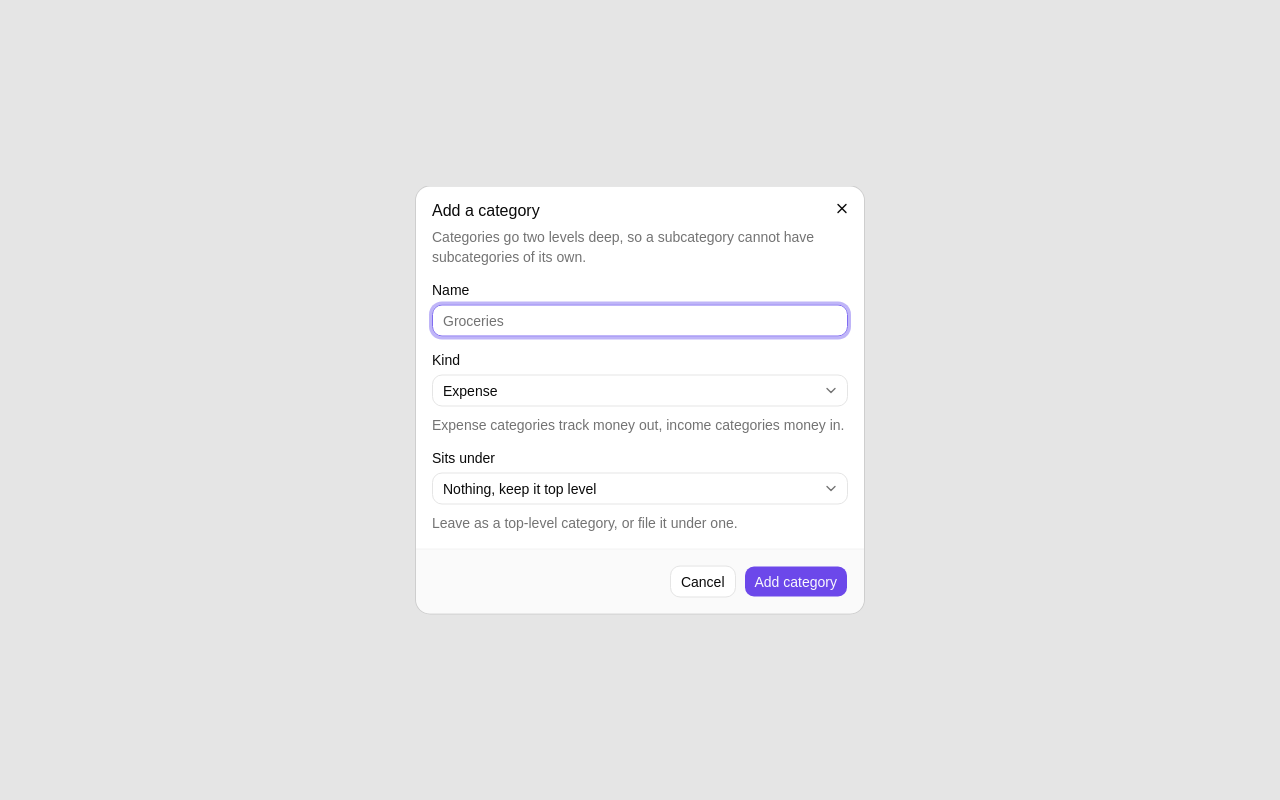
Test: the kind picker › only offers parents of the chosen kind
The image size is (1280, 800).
Click the dropdown named "Sits under": click(520, 488) [432,472,848,504]
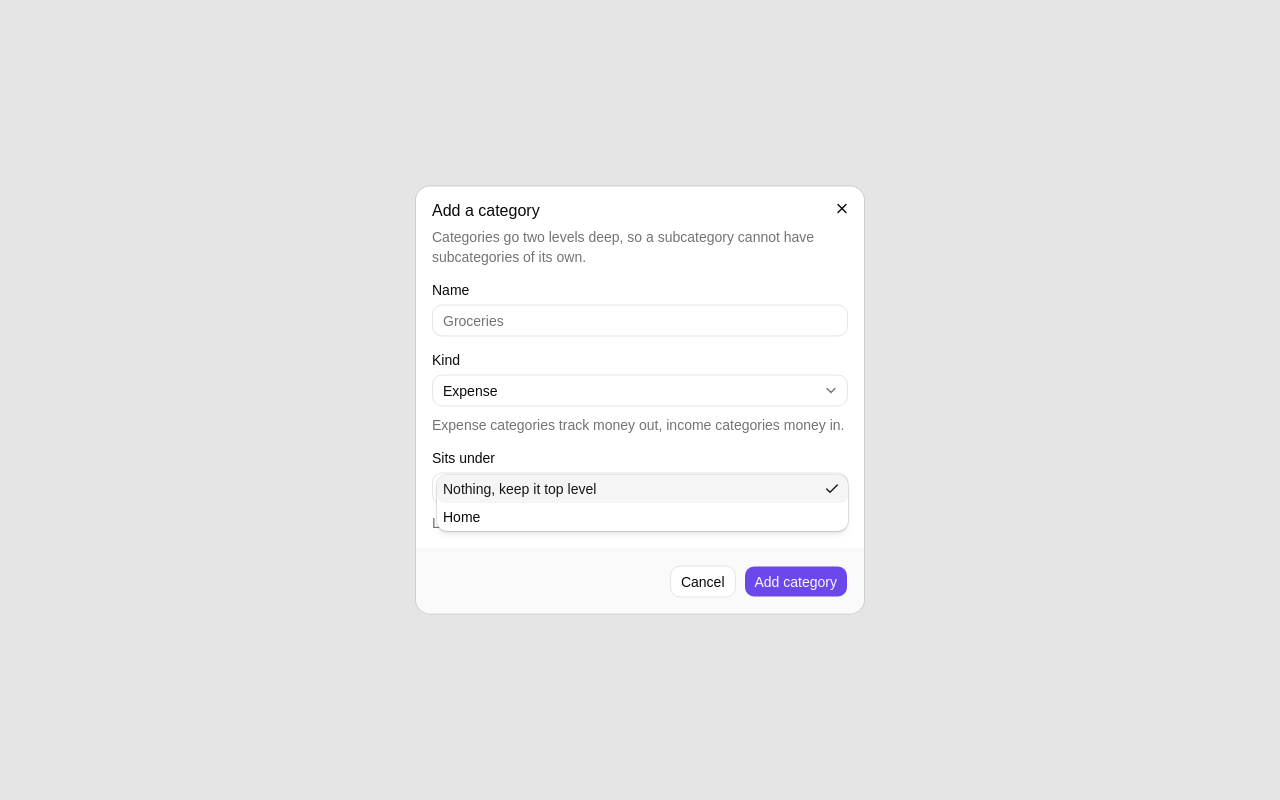
Expected: the option "Salary" is not shown
Expected: the option "Home" is shown, [443,508,480,524]
Press Escape
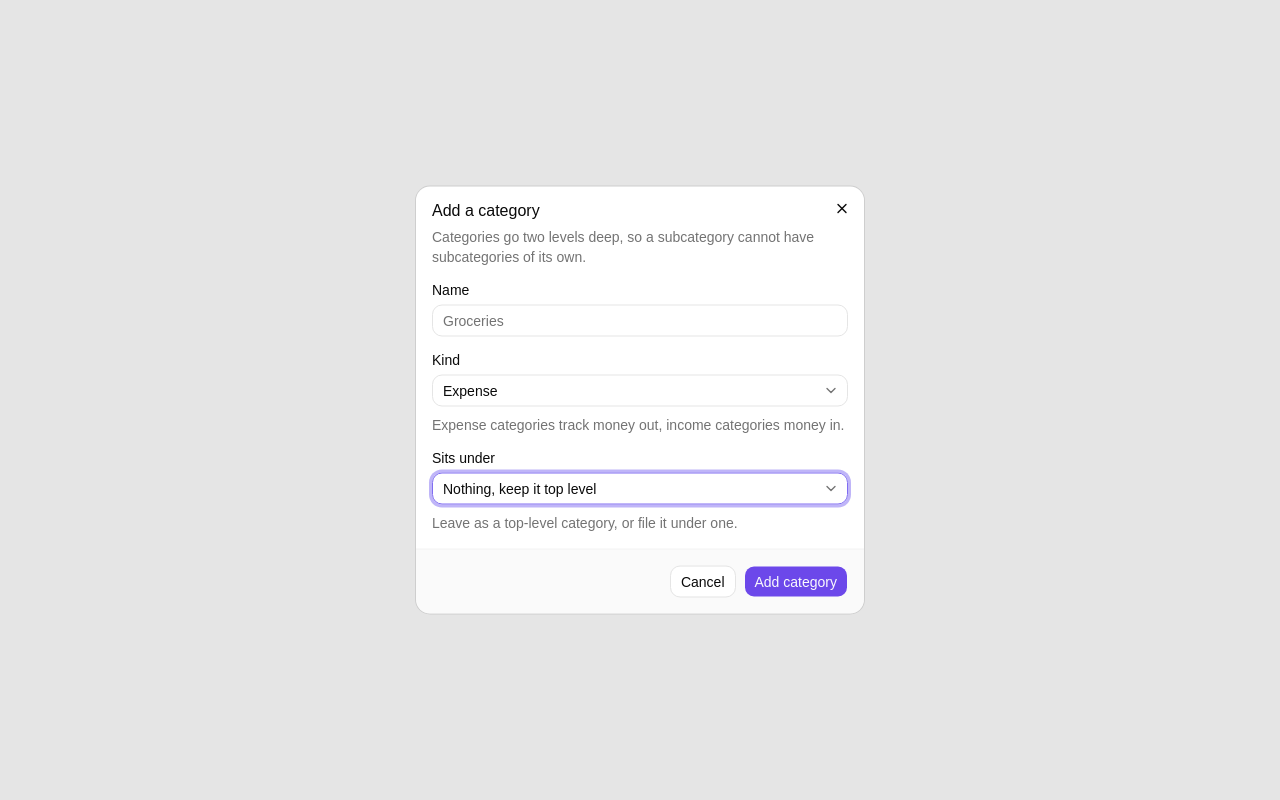
Click the dropdown named "Kind": click(470, 390) [432,374,848,406]
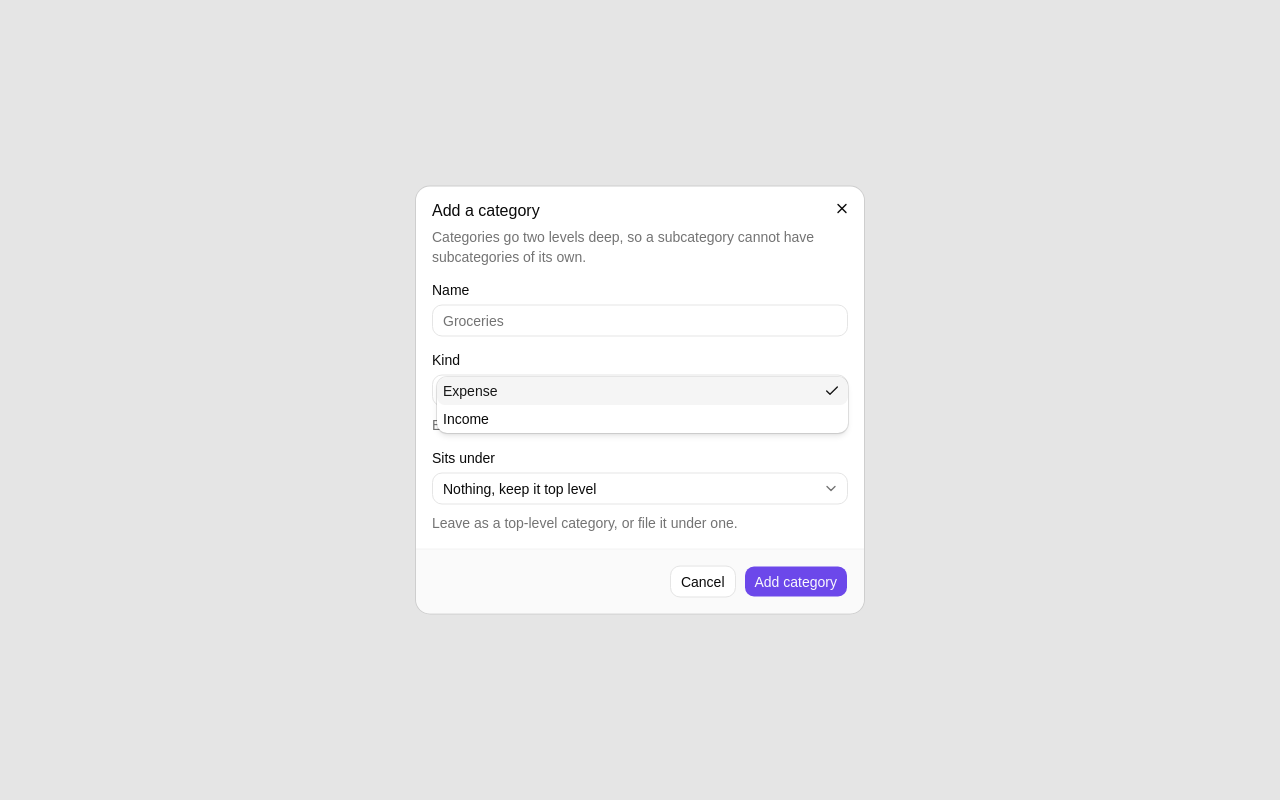
Click the option "Income": click(466, 418) [443,410,489,426]
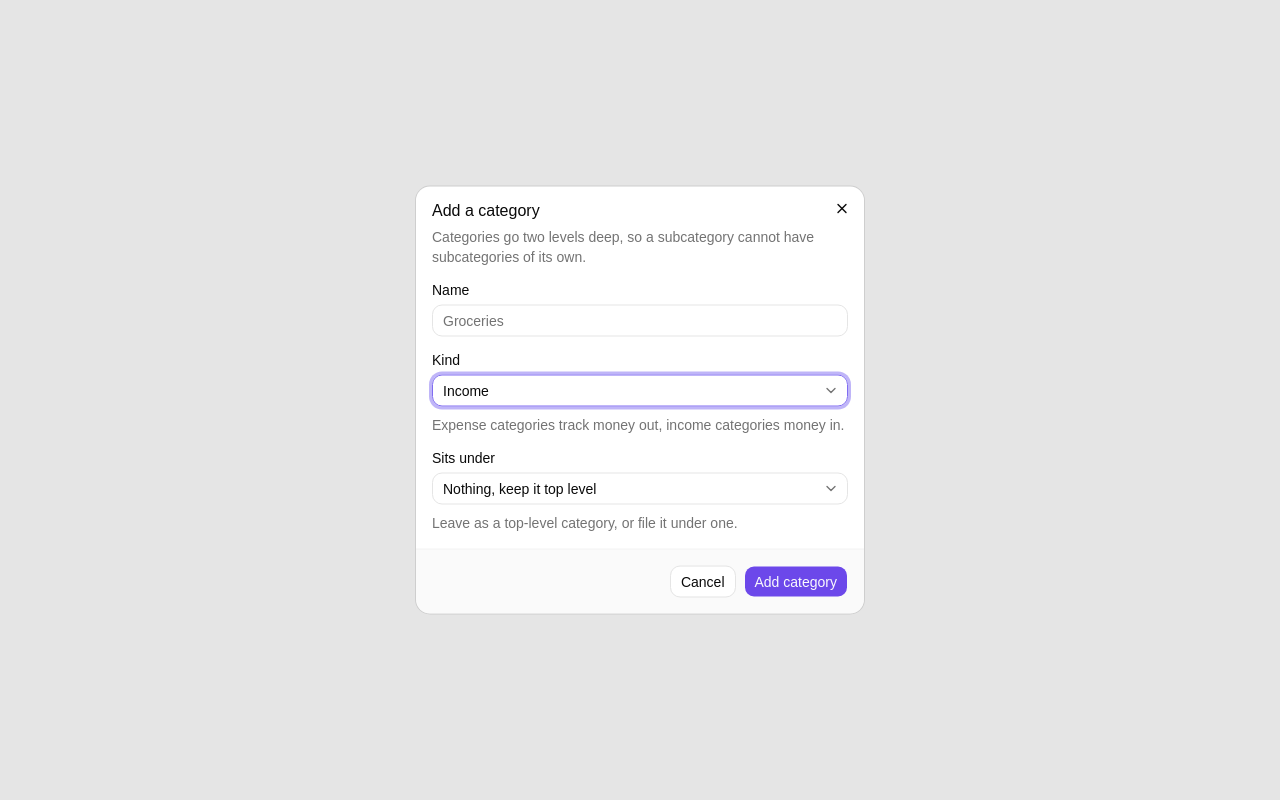
Click the dropdown named "Sits under": click(520, 488) [432,472,848,504]
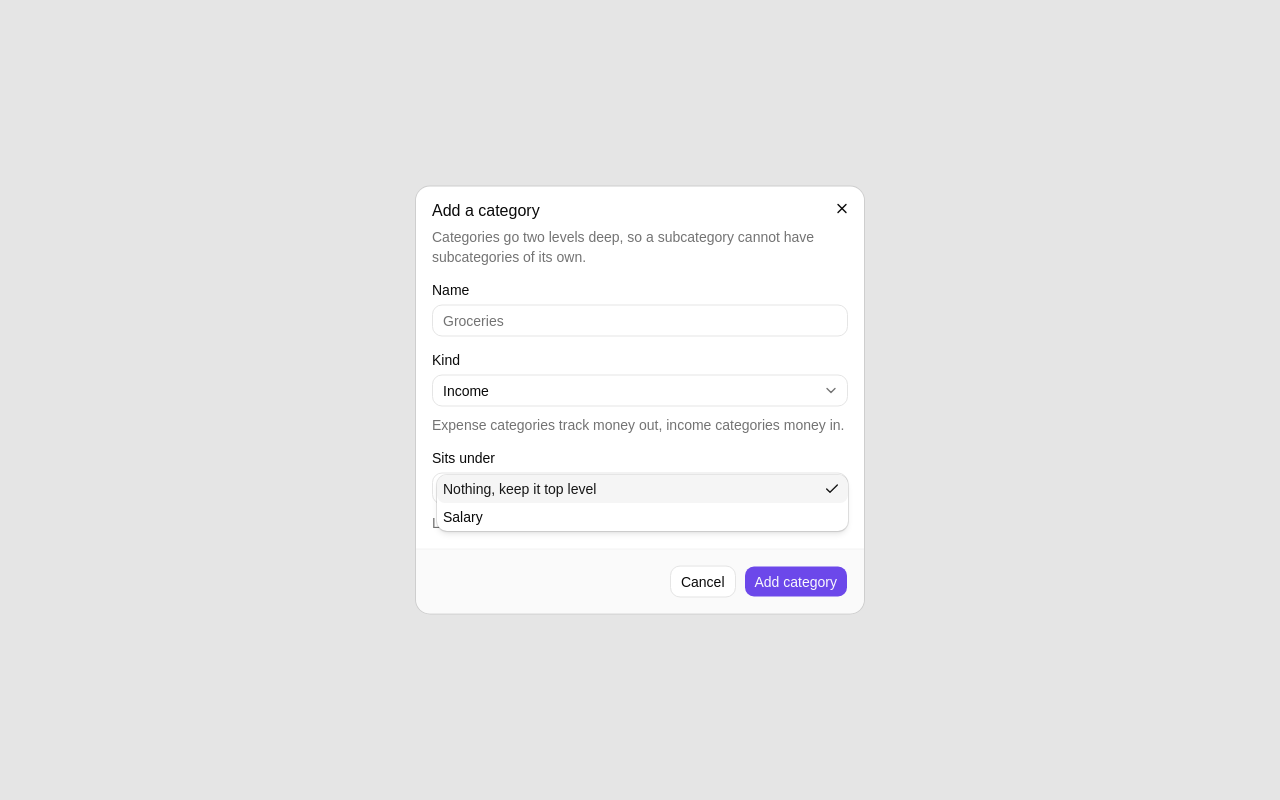
Expected: the option "Home" is not shown
Expected: the option "Salary" is shown, [443,508,483,524]
